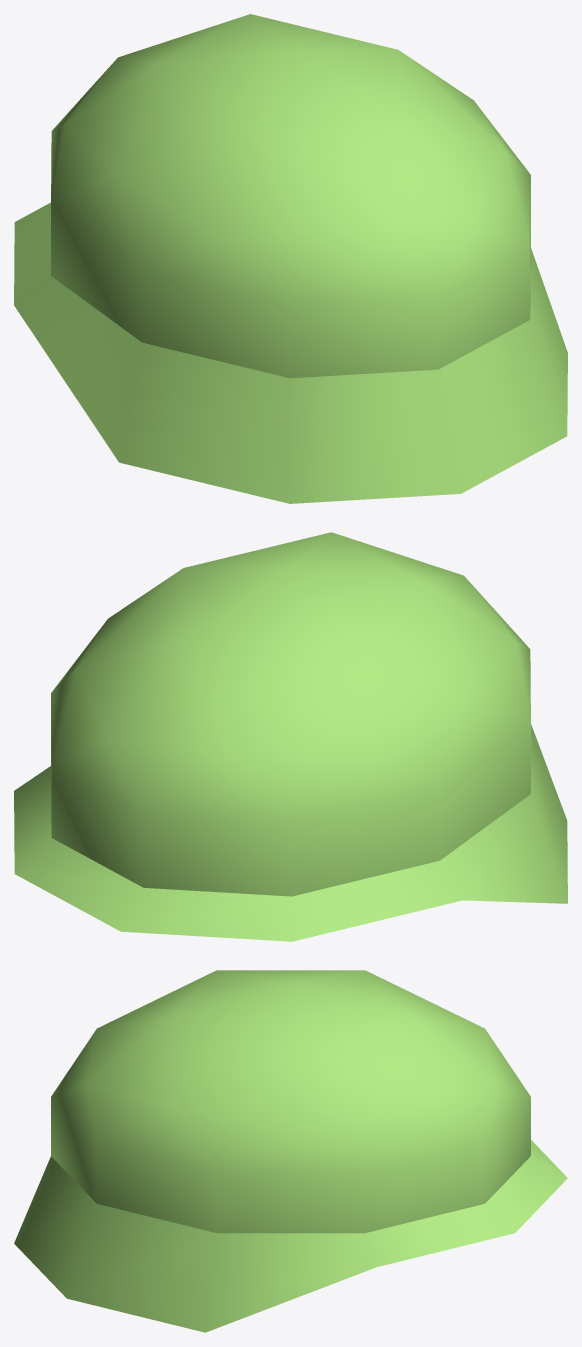
File: Stahlhelm.fbx
3 views of the same model, one above another, from view 1: azimuth 30°, elevation 25°; view 2: azimuth 150°, elevation 25°; view 3: azimuth 270°, elevation 25° (orthographic). The views are drawn at different scales.
Visible parts, largest first — view 1: Stahlhelm; view 2: Stahlhelm; view 3: Stahlhelm.
Boxes of the visible parts, bbox=[...] form: Stahlhelm: bbox=[14, 14, 567, 503]; Stahlhelm: bbox=[14, 532, 567, 941]; Stahlhelm: bbox=[14, 970, 567, 1332].
Size of the model in its own units: 0.2058 by 0.2701 by 0.1397.
